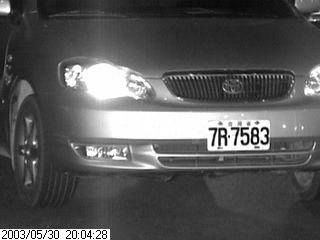plate: (207, 117, 273, 152)
